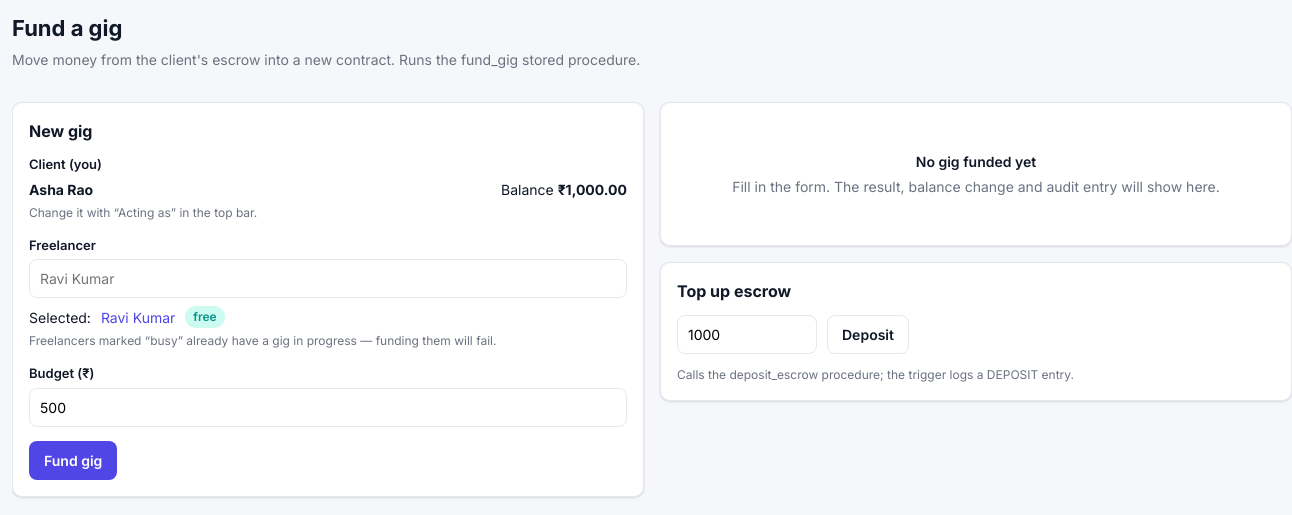
it: Fund a gig › server down shows an error instead of a blank page
expect the link "Ravi Kumar" is shown: met, box [101,306,175,328]
Click the button "Fund gig" at point(73, 460), box [29,440,117,480]
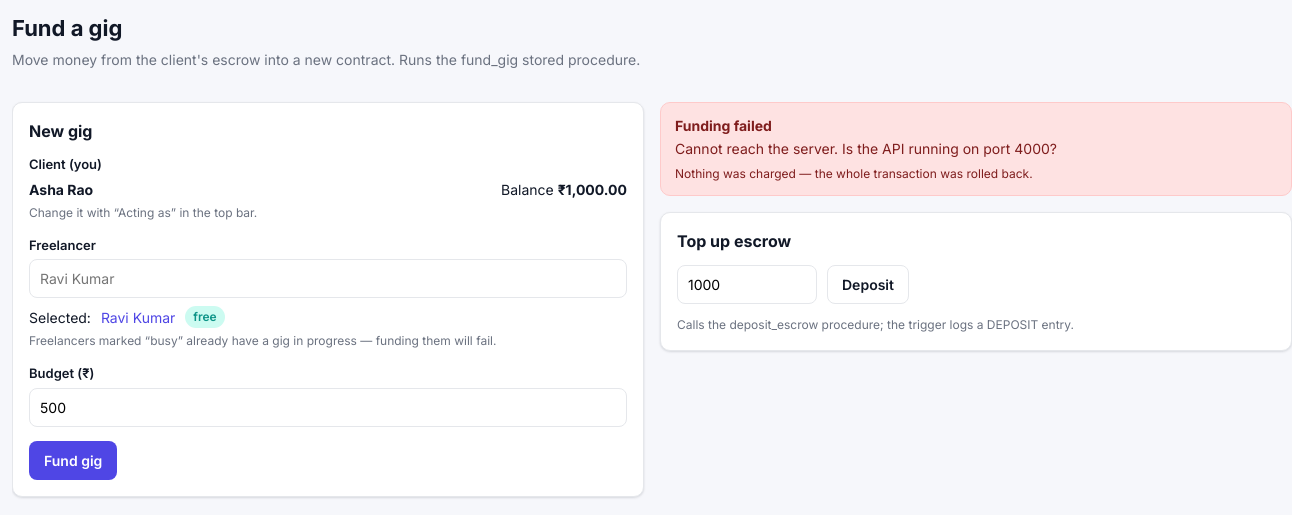
expect the text "Cannot reach the server" is shown: met, box [675,140,1057,157]
